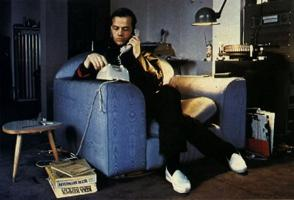person: (75, 7, 248, 193)
